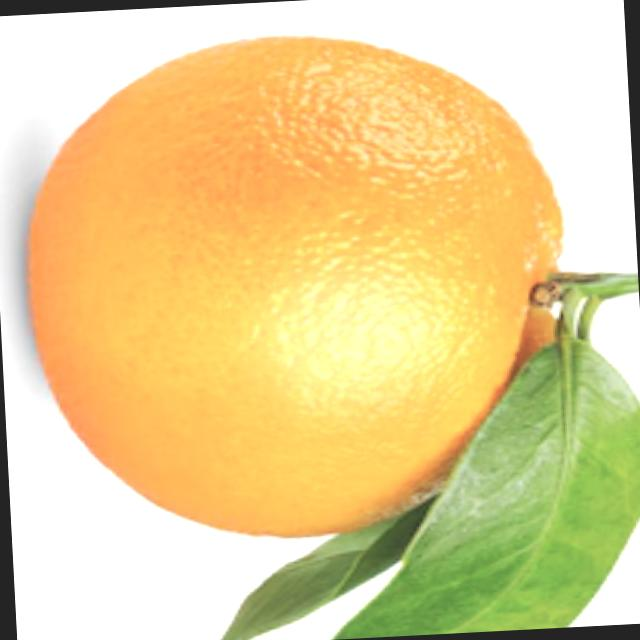orange: (12, 16, 574, 554)
